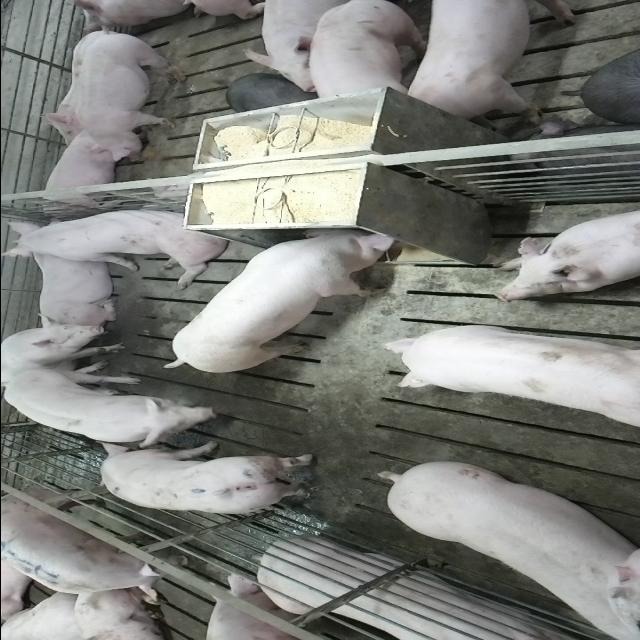Feeding: (163, 220, 401, 370)
Sitting: (4, 204, 230, 286), (1, 320, 131, 390)
Standing: (373, 456, 635, 634), (386, 321, 640, 442), (0, 482, 195, 604), (402, 2, 578, 122), (4, 360, 245, 444), (94, 441, 320, 516), (76, 29, 190, 163), (241, 0, 389, 92), (305, 0, 424, 102)
Sternal_lying: (205, 540, 586, 640), (491, 206, 640, 302), (36, 132, 132, 212), (30, 246, 122, 326)
